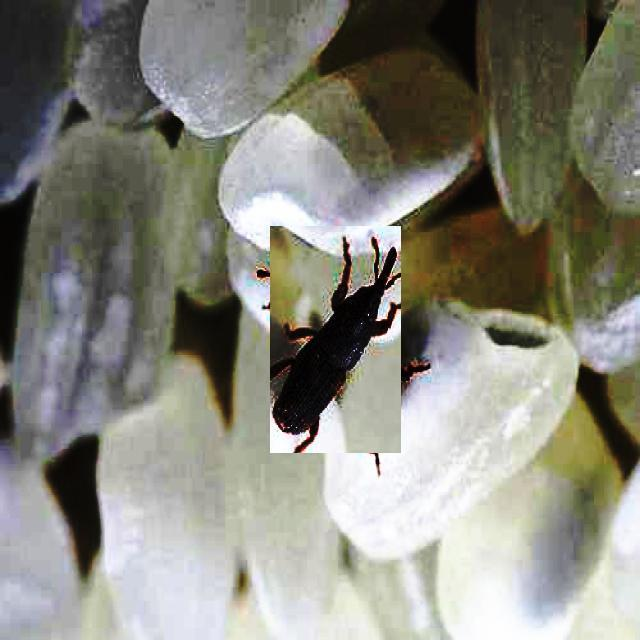rice-bug: (270, 226, 401, 453)
